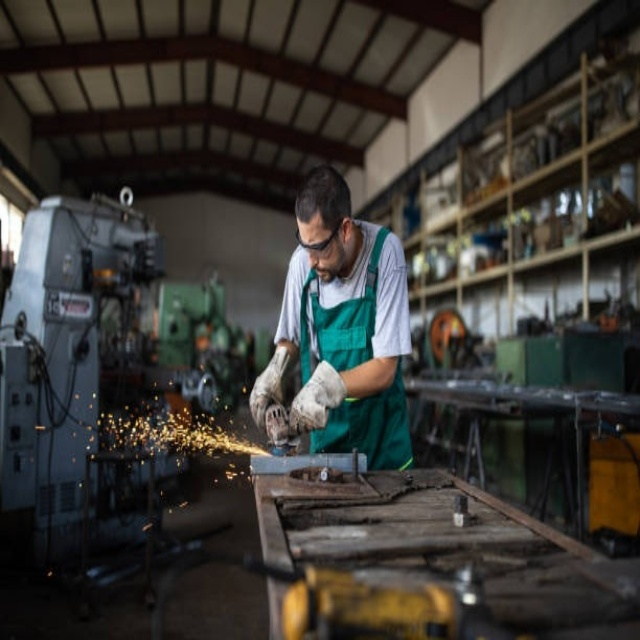Gafas: (296, 216, 345, 253)
Guantes: (290, 360, 349, 430), (249, 346, 295, 434)
Sin_mascara: (312, 262, 336, 284)
